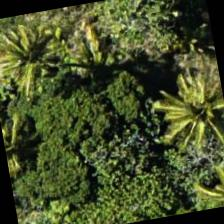Kelapa_Sawit: (129, 54, 223, 159), (0, 6, 83, 105), (162, 128, 223, 215)
